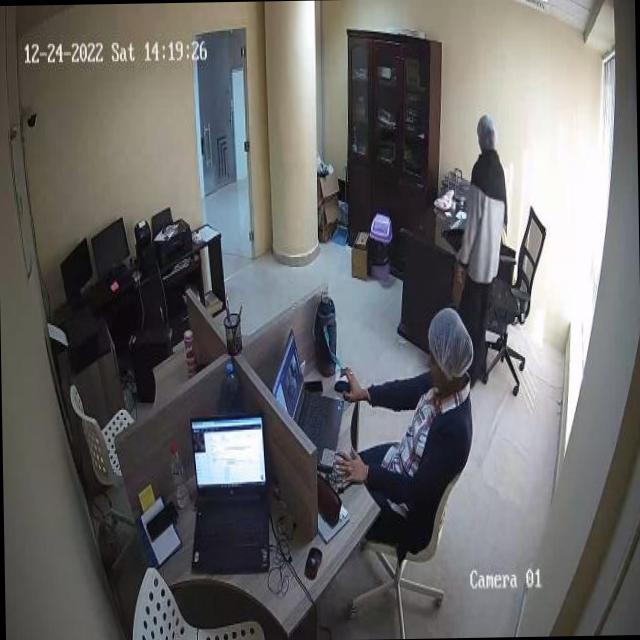hairnet: (428, 308, 473, 384), (476, 114, 498, 150)
